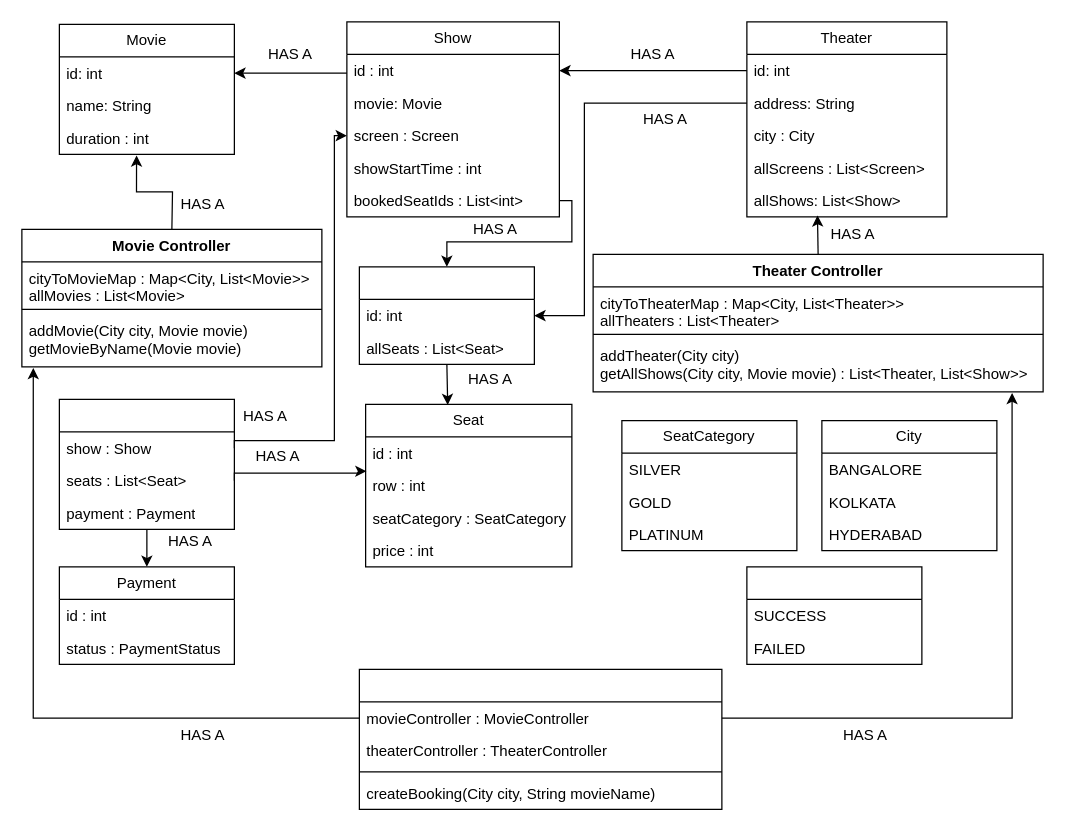
Some shapes in this 1065 by 835 pixel diagram are drawn without their labels. Here are the shapes that lost their labels. From the top down, the box of each, then its label:
(358, 266, 534, 364): Screen
(58, 398, 234, 529): Booking
(746, 566, 922, 664): PaymentStatus
(358, 668, 722, 809): BookMyShow
